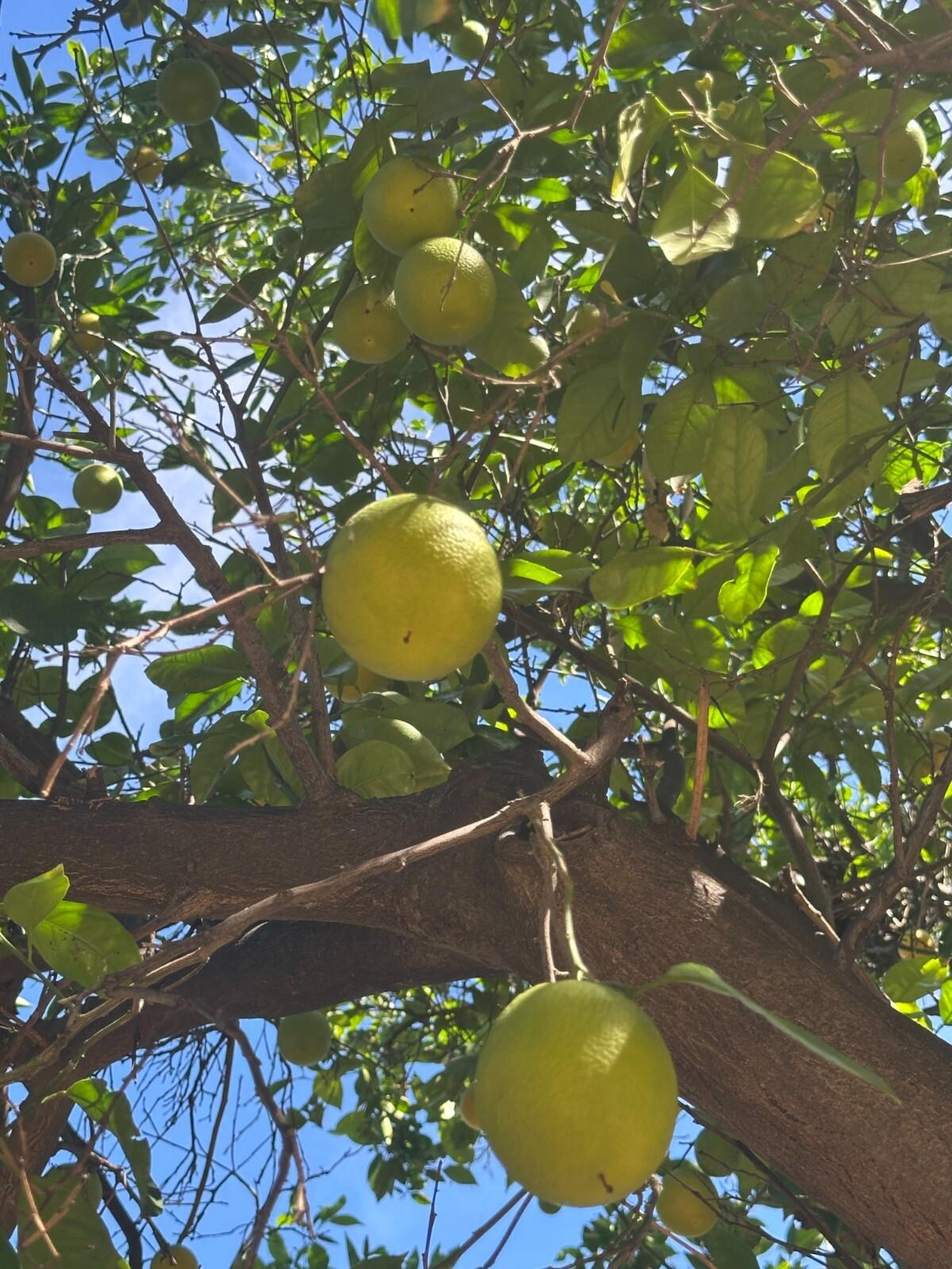orange: (475, 980, 678, 1206), (323, 494, 502, 681), (394, 237, 495, 344), (363, 159, 459, 255), (332, 283, 409, 363), (856, 120, 927, 186), (657, 1161, 718, 1237), (157, 59, 221, 125), (278, 1011, 332, 1065), (3, 232, 56, 286), (73, 463, 122, 513), (322, 663, 386, 700), (592, 430, 639, 465), (69, 311, 107, 354), (563, 304, 602, 344), (124, 146, 164, 184), (918, 732, 951, 778), (451, 21, 487, 60), (151, 1244, 198, 1268)
